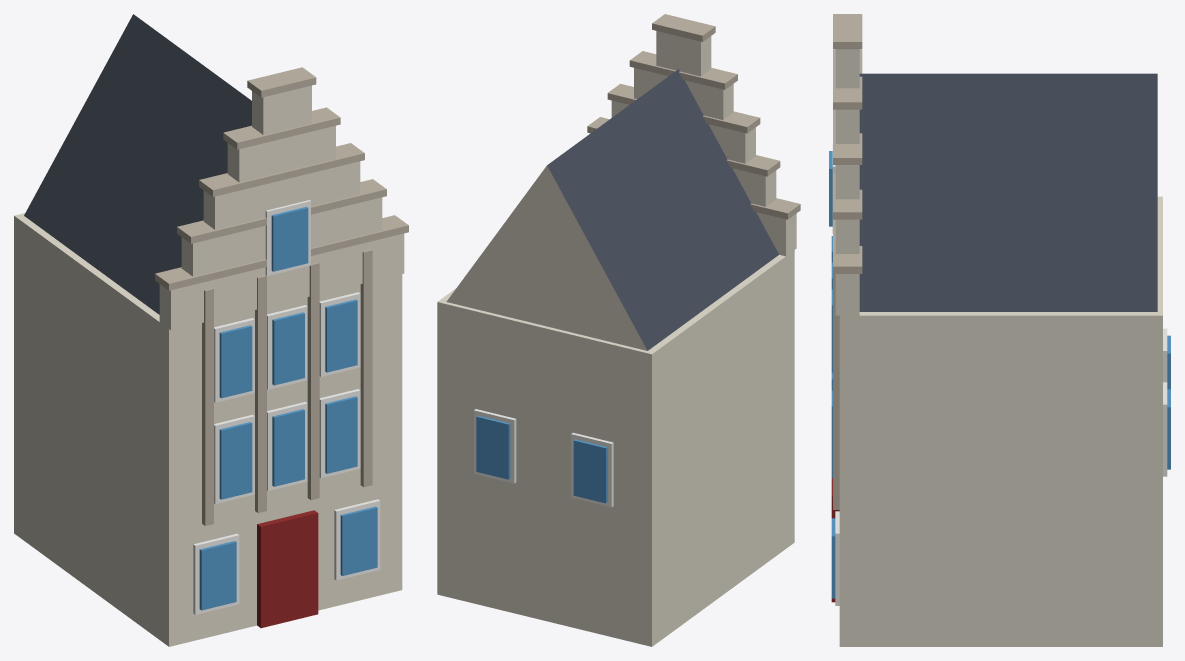
The model's file is 36_brick_gothic_3.obj.
3 views of the same model, side by side, from view 1: azimuth 30°, elevation 25°; view 2: azimuth 150°, elevation 25°; view 3: azimuth 270°, elevation 25° (orthographic). The views are drawn at different scales.
Visible parts, largest first — view 1: 36_brick_gothic_3; view 2: 36_brick_gothic_3; view 3: 36_brick_gothic_3.
Part boxes in pixels (x1,y1,x2,y2): 36_brick_gothic_3: (14, 14, 408, 646); 36_brick_gothic_3: (437, 14, 800, 646); 36_brick_gothic_3: (829, 14, 1170, 646).
Bounding box in the file's own units: 1.09 × 2.33 × 1.29.
